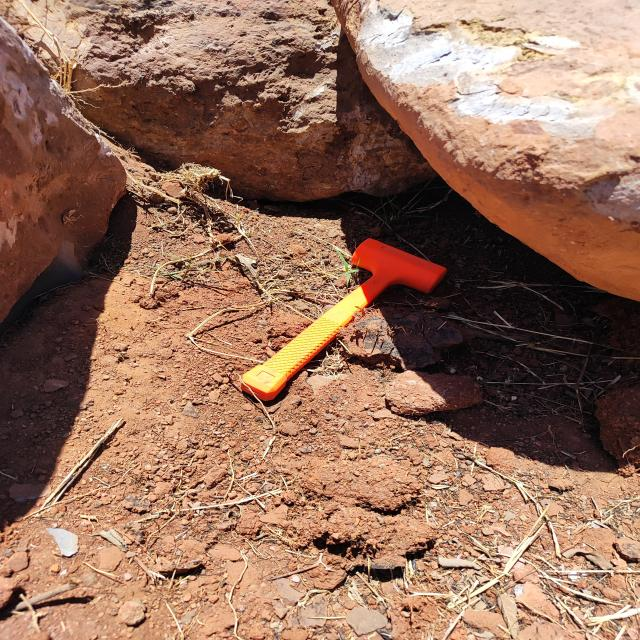Orange_hammer: (238, 237, 448, 402)
